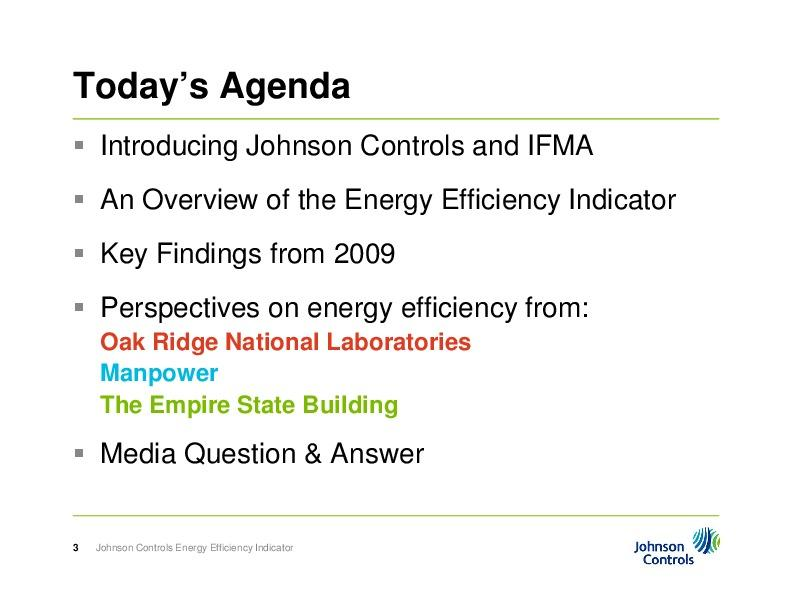paragraph: (71, 123, 700, 481)
subtitle: (67, 534, 301, 561)
title: (68, 57, 357, 114)
